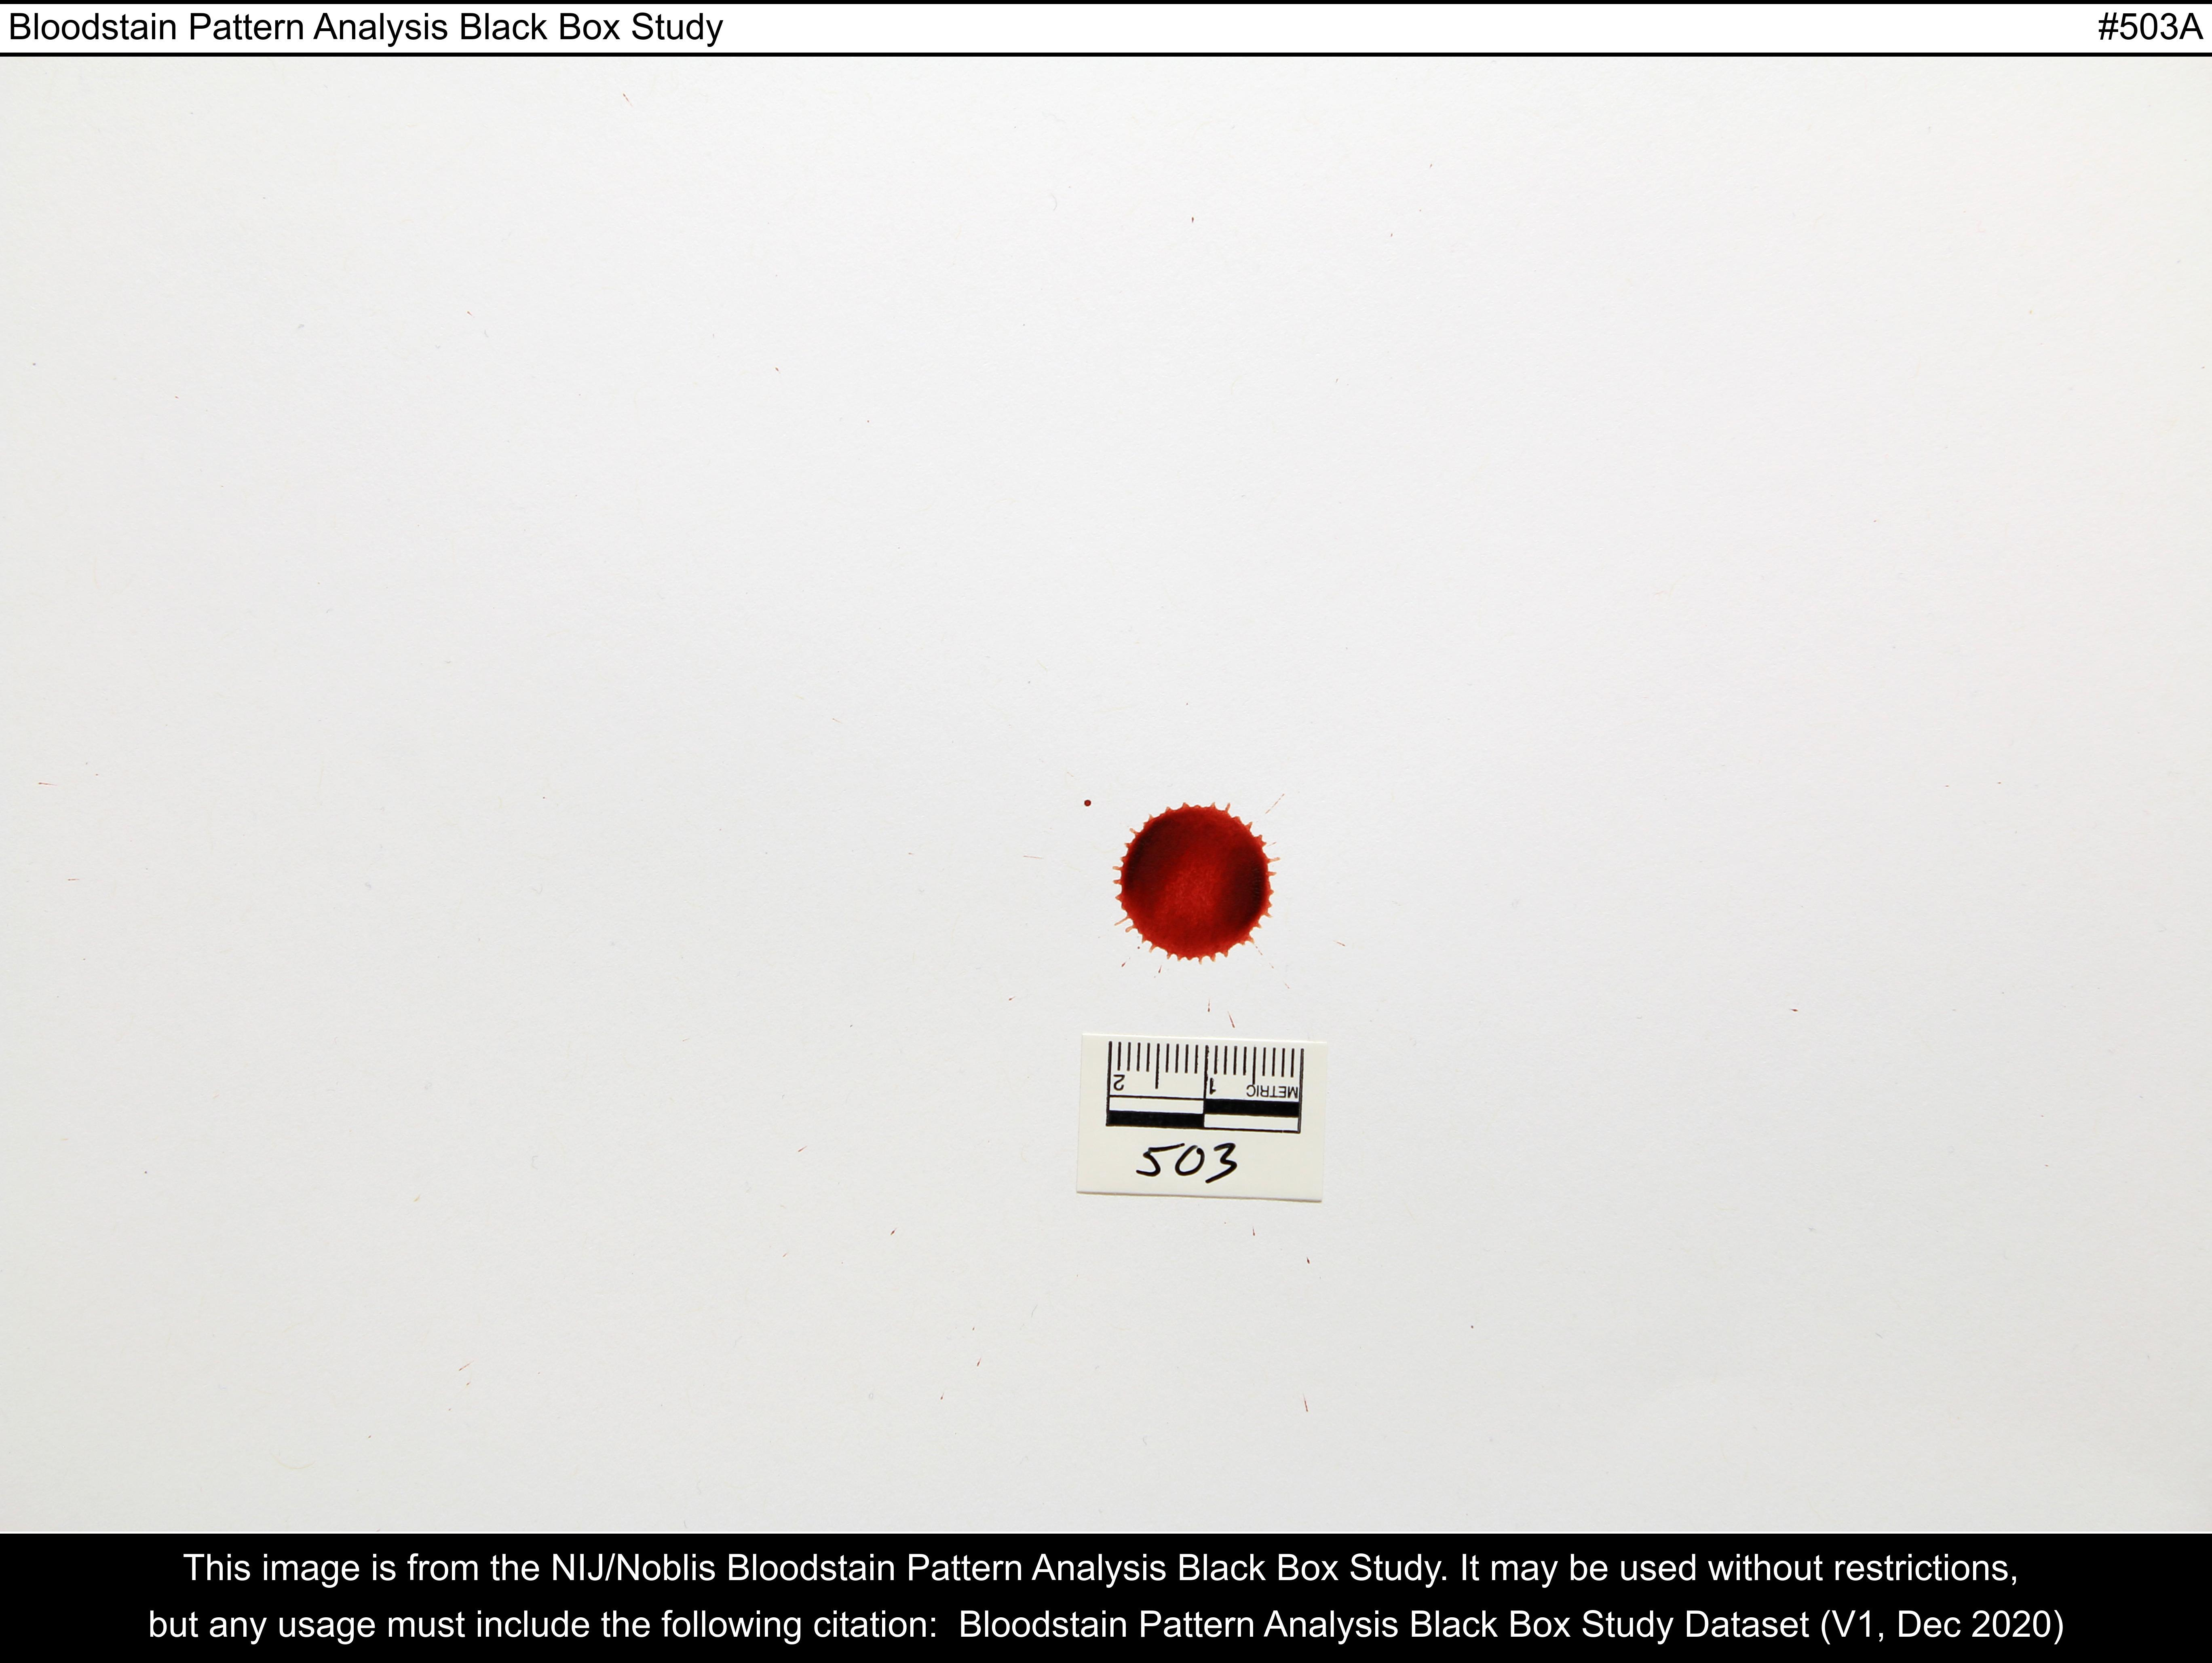Passive: (1049, 753, 1367, 1029)
